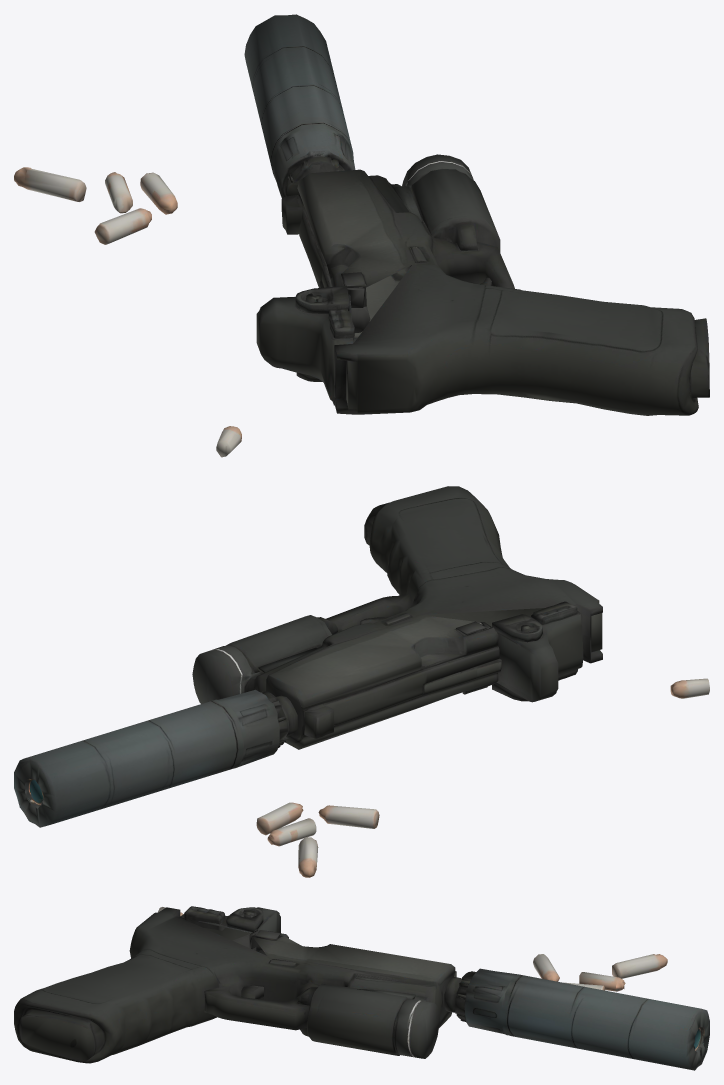
Rendered from CDL_Mesh_Pistol.glb.
3 views of the same model, one above another, from view 1: azimuth 30°, elevation 25°; view 2: azimuth 150°, elevation 25°; view 3: azimuth 270°, elevation 25° (orthographic). The views are drawn at different scales.
Visible parts, largest first — view 1: tripo_node_2e8ed72c-0995-455d-8993-76cfb4db446b; view 2: tripo_node_2e8ed72c-0995-455d-8993-76cfb4db446b; view 3: tripo_node_2e8ed72c-0995-455d-8993-76cfb4db446b.
Part boxes in pixels (x1,y1,x2,y2): tripo_node_2e8ed72c-0995-455d-8993-76cfb4db446b: [14, 14, 709, 457]; tripo_node_2e8ed72c-0995-455d-8993-76cfb4db446b: [14, 486, 709, 877]; tripo_node_2e8ed72c-0995-455d-8993-76cfb4db446b: [14, 906, 709, 1070].
Bounding box in the file's own units: 0.5684 × 0.0996 × 0.998.
1 material, 1 textured.
